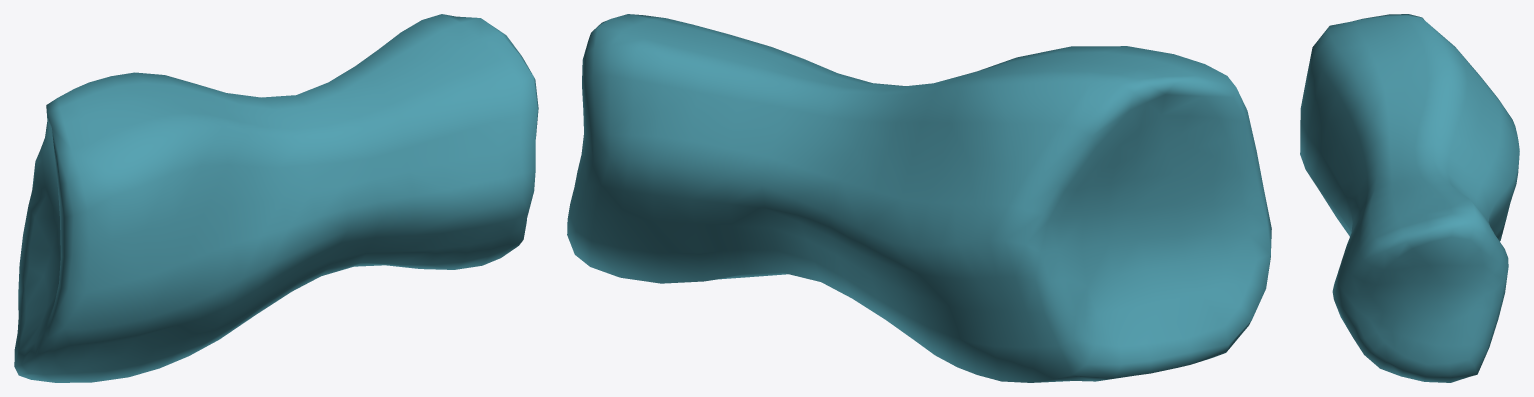
The model's file is VIS_Alpha_Surface_013.dae.
3 views of the same model, side by side, from view 1: azimuth 30°, elevation 25°; view 2: azimuth 150°, elevation 25°; view 3: azimuth 270°, elevation 25° (orthographic). The views are drawn at different scales.
Visible parts, largest first — view 1: VIS_Alpha_Surface_013; view 2: VIS_Alpha_Surface_013; view 3: VIS_Alpha_Surface_013.
Boxes of the visible parts, x1,y1,x2,y2 form: VIS_Alpha_Surface_013: (14,14,538,382); VIS_Alpha_Surface_013: (567,14,1271,382); VIS_Alpha_Surface_013: (1300,14,1519,382).
Bounding box in the file's own units: 29.59 × 13.25 × 13.92.
